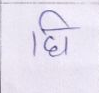o_matra: (42, 9, 75, 54)
